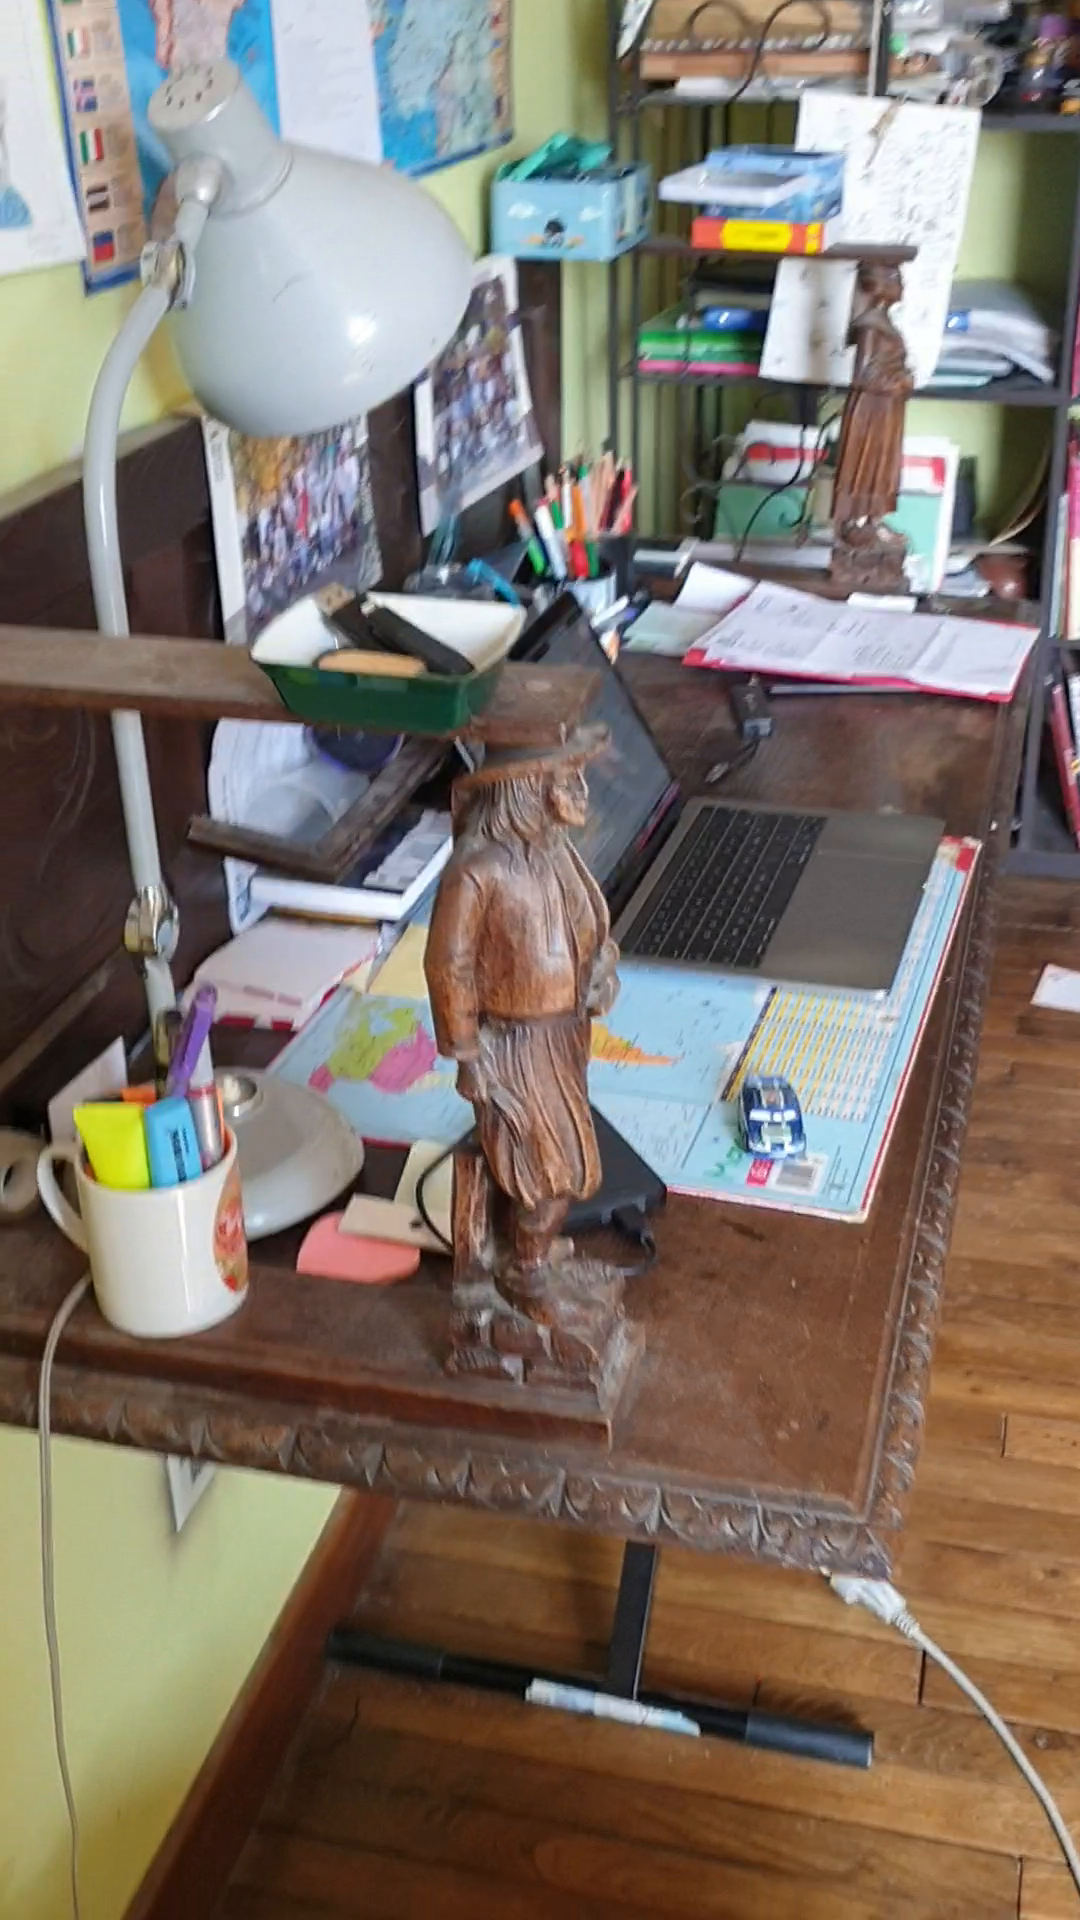cars: (737, 1075, 808, 1160)
